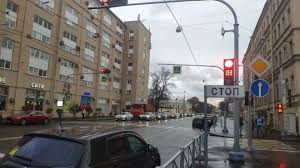tl: (224, 57, 236, 86)
